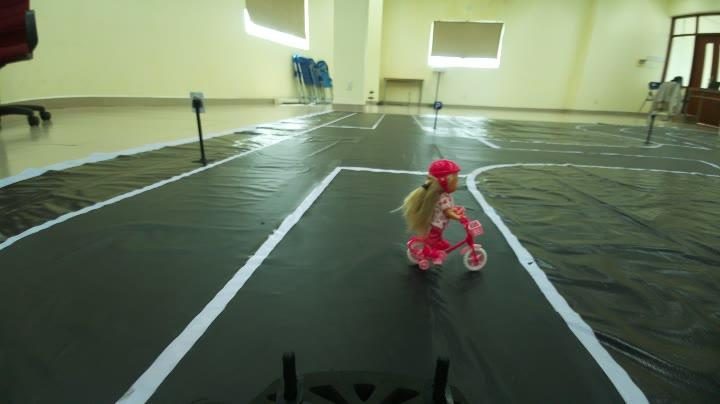pedestrian: (399, 148, 499, 272)
